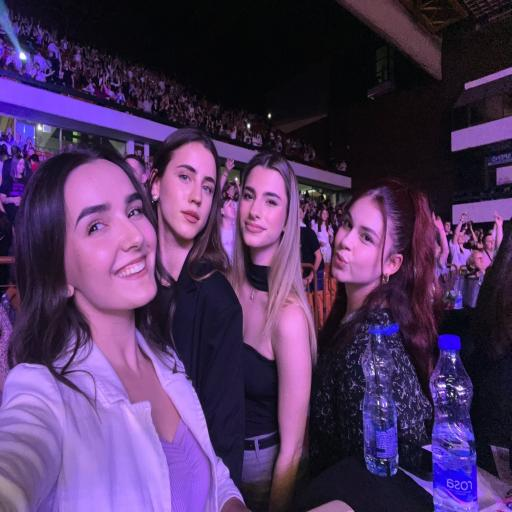masa: (155, 136, 221, 240)
